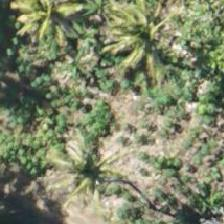coconut_tree: (99, 0, 189, 82), (2, 0, 92, 52)
